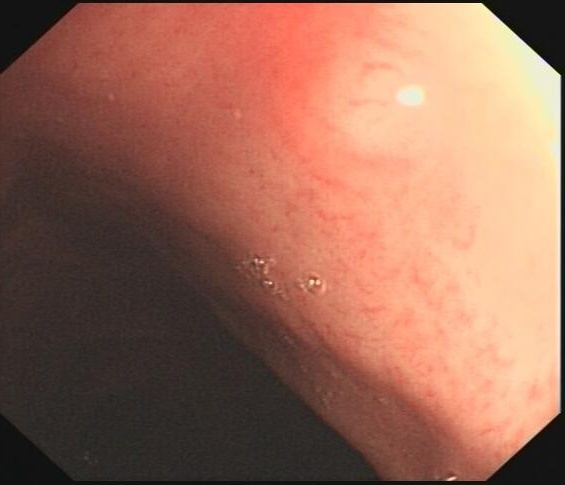Polyp: (266, 12, 459, 183)
